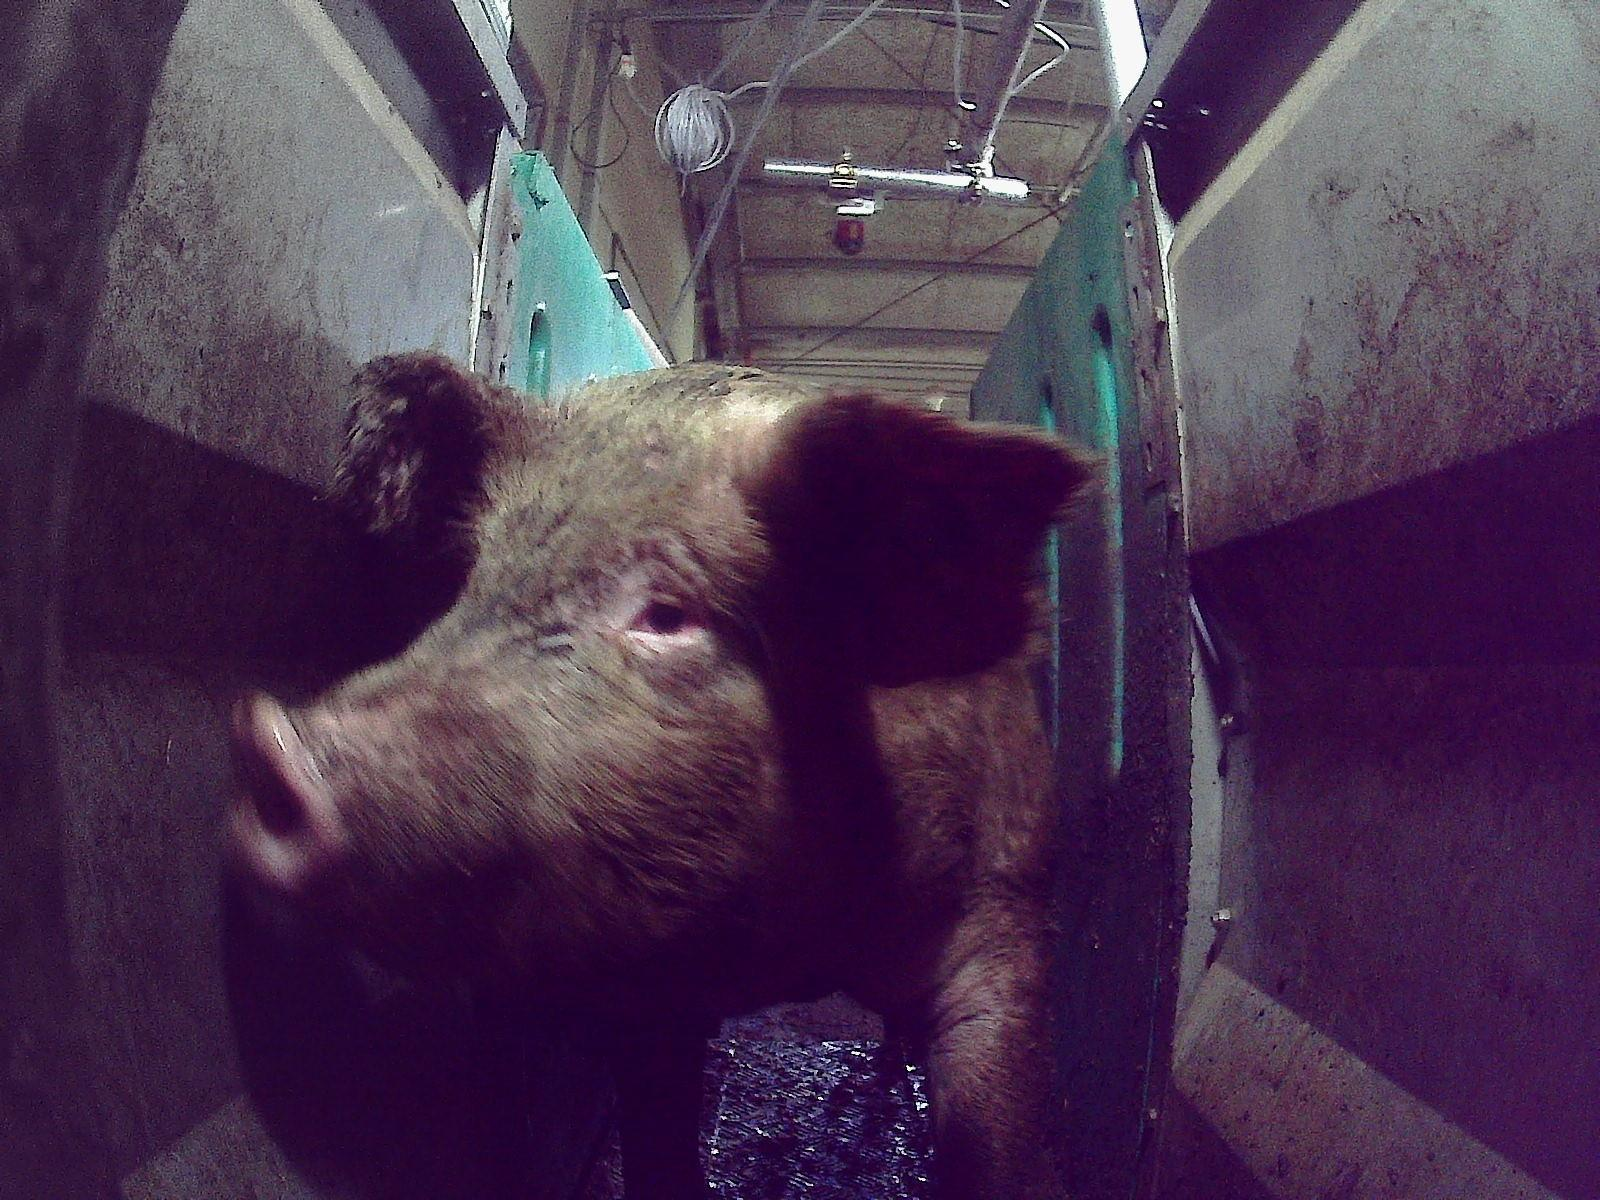Face: (226, 413, 868, 1007)
